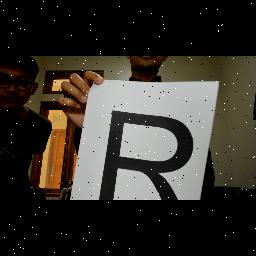r: (96, 104, 196, 200)
